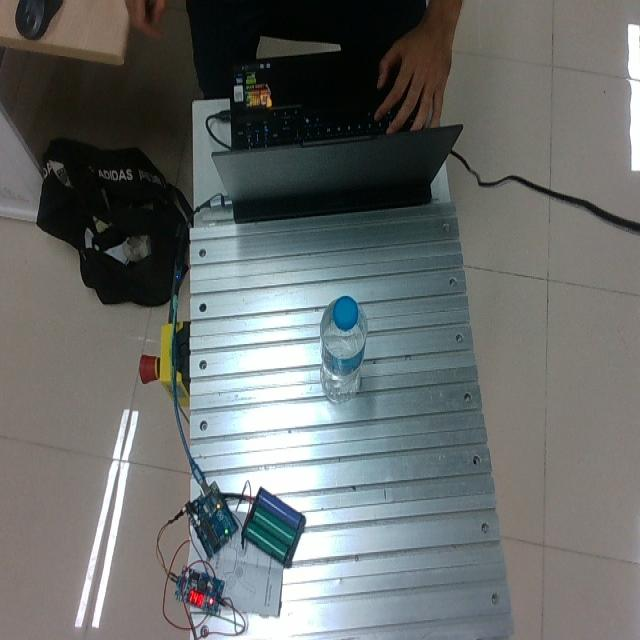lavie: (319, 300, 366, 401)
